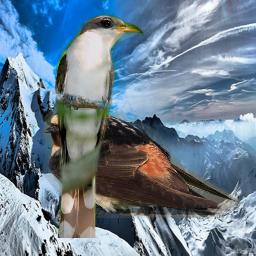Cuckoo: (53, 13, 144, 238)
Swallow: (43, 101, 240, 218)
